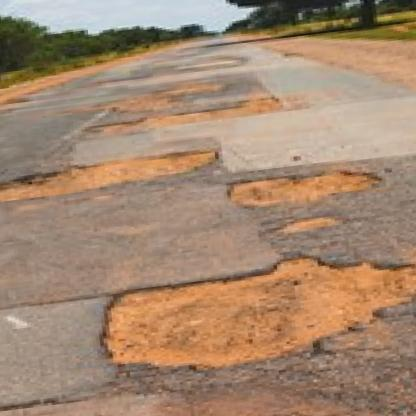pothole: (92, 238, 416, 382), (0, 147, 221, 210), (225, 162, 384, 215), (87, 96, 284, 138), (267, 210, 350, 238), (154, 78, 222, 100)
